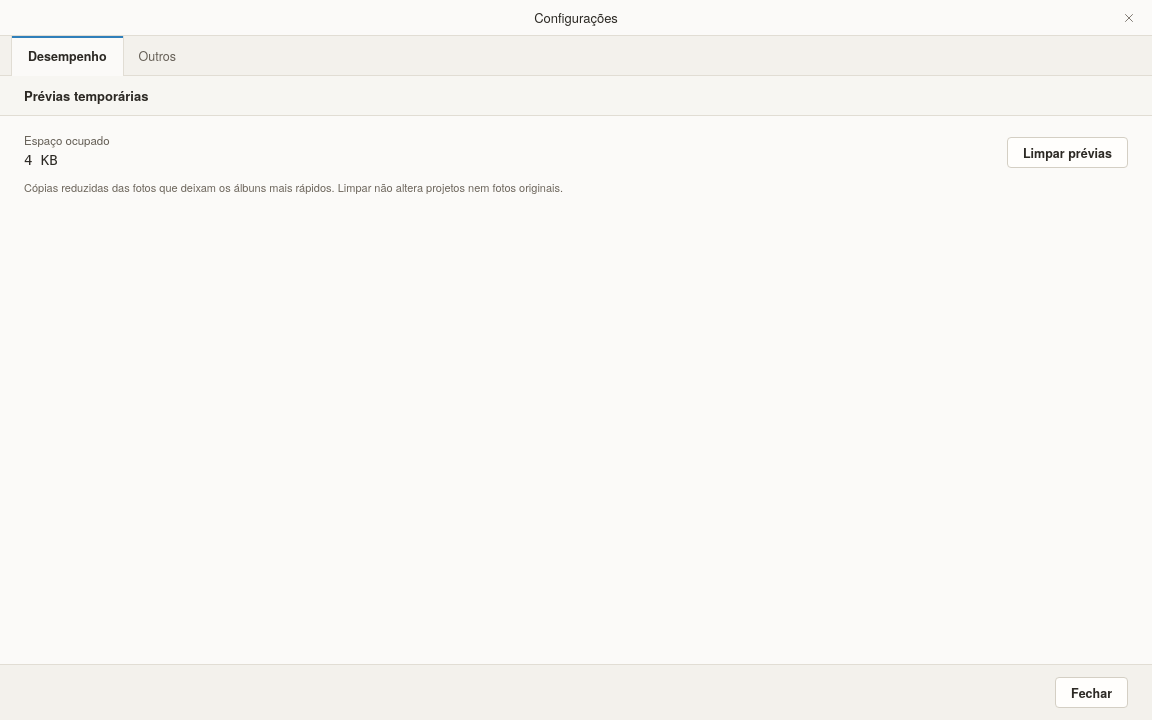
failed cleanup keeps confirmation available for a successful retry
The image size is (1152, 720).
Click the button "Limpar prévias". click: point(1067, 152)
box: [1007,137,1128,168]
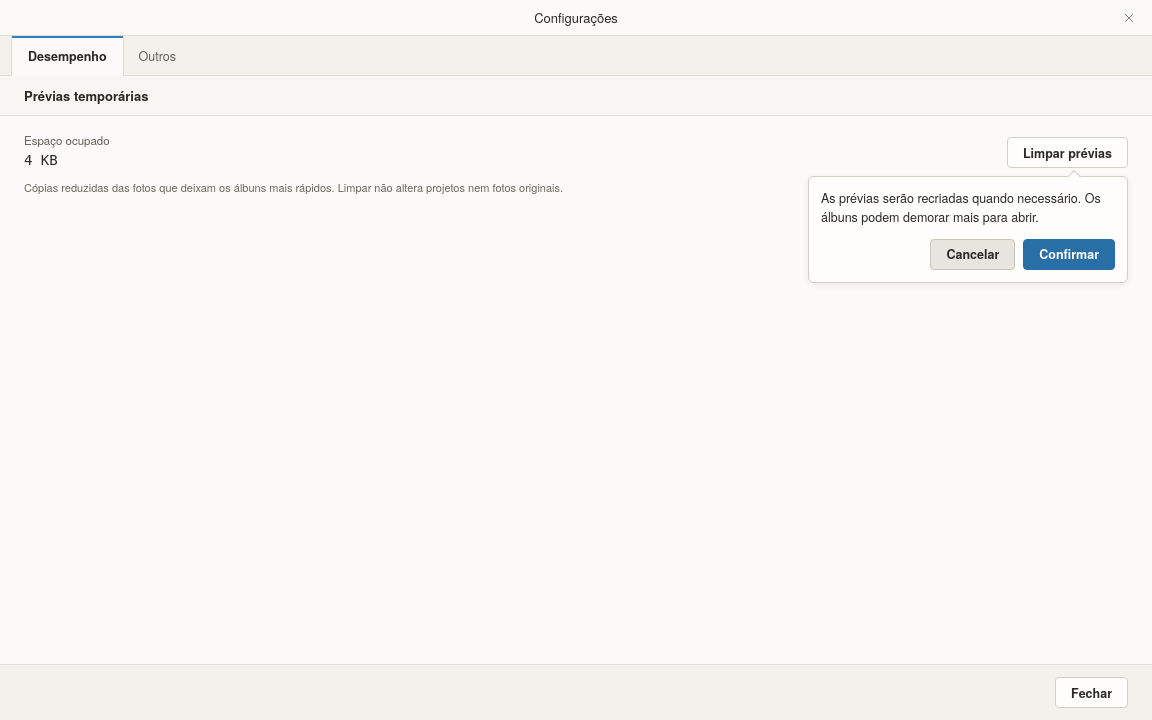
Click the button "Confirmar". click: point(1069, 254)
box: [1023,238,1115,270]
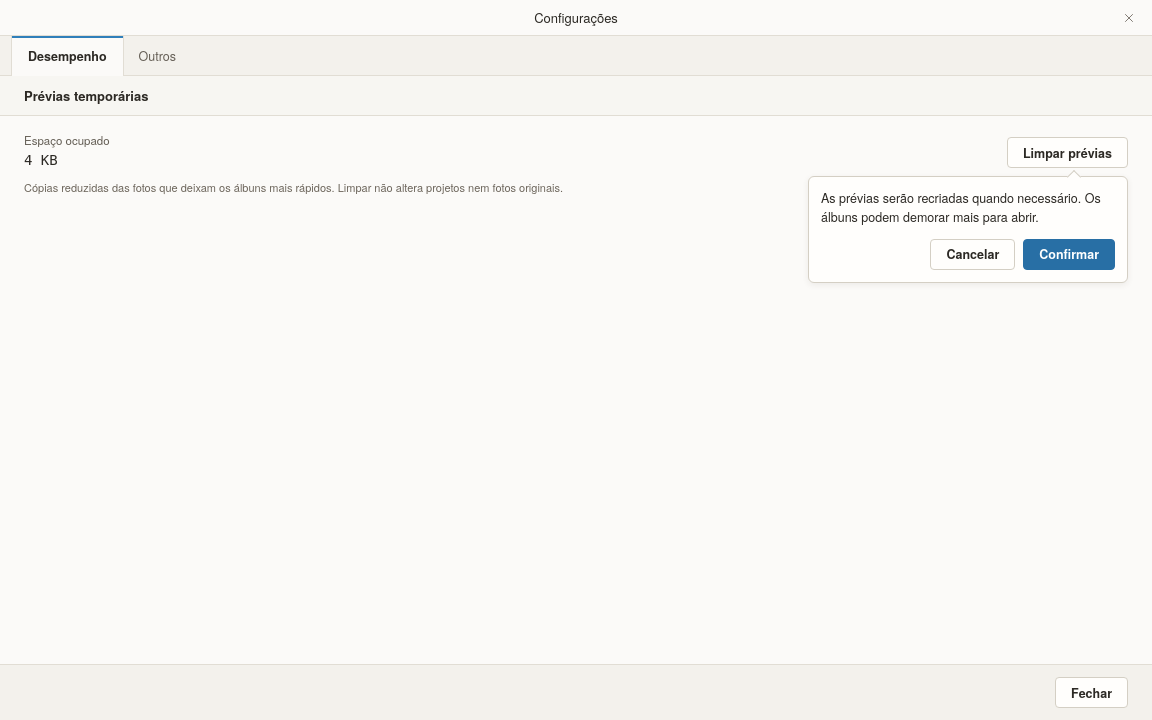
Check: the button "Confirmar" is enabled
Click the button "Confirmar". click: point(1069, 254)
box: [1023,238,1115,270]
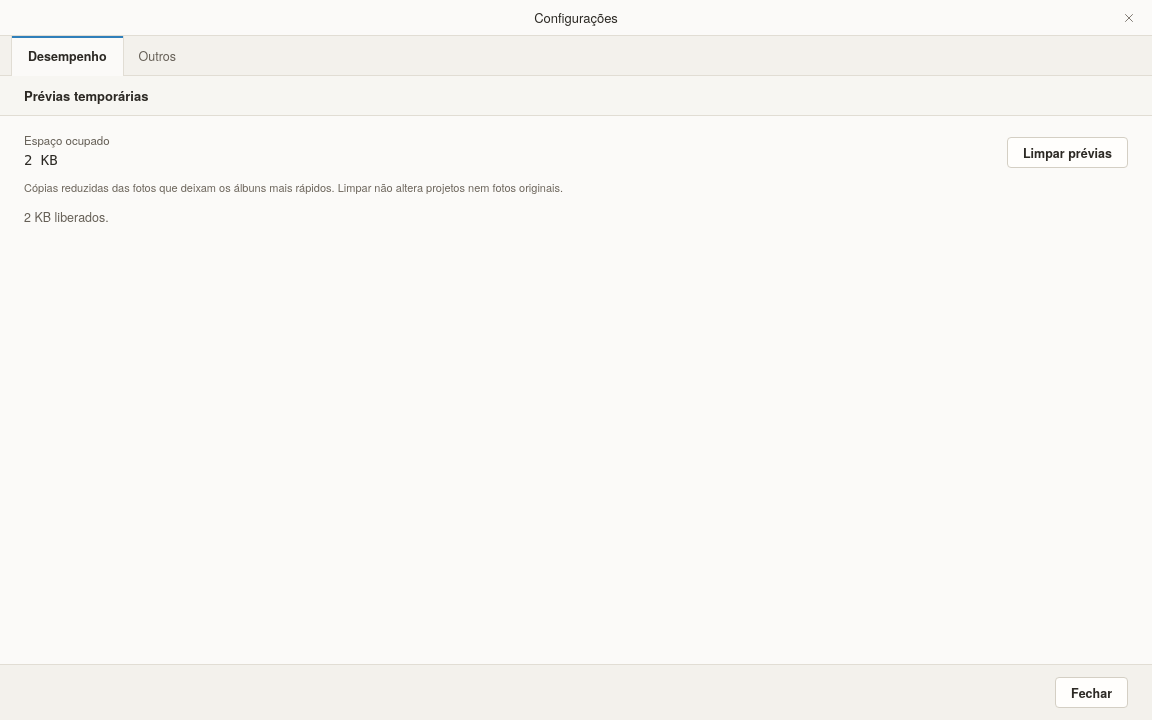
Check: the button "Limpar prévias" is enabled, box [1007,137,1128,168]
Check: the message reads "2 KB liberados.", box [24,208,109,226]
Check: the dialog is gone
